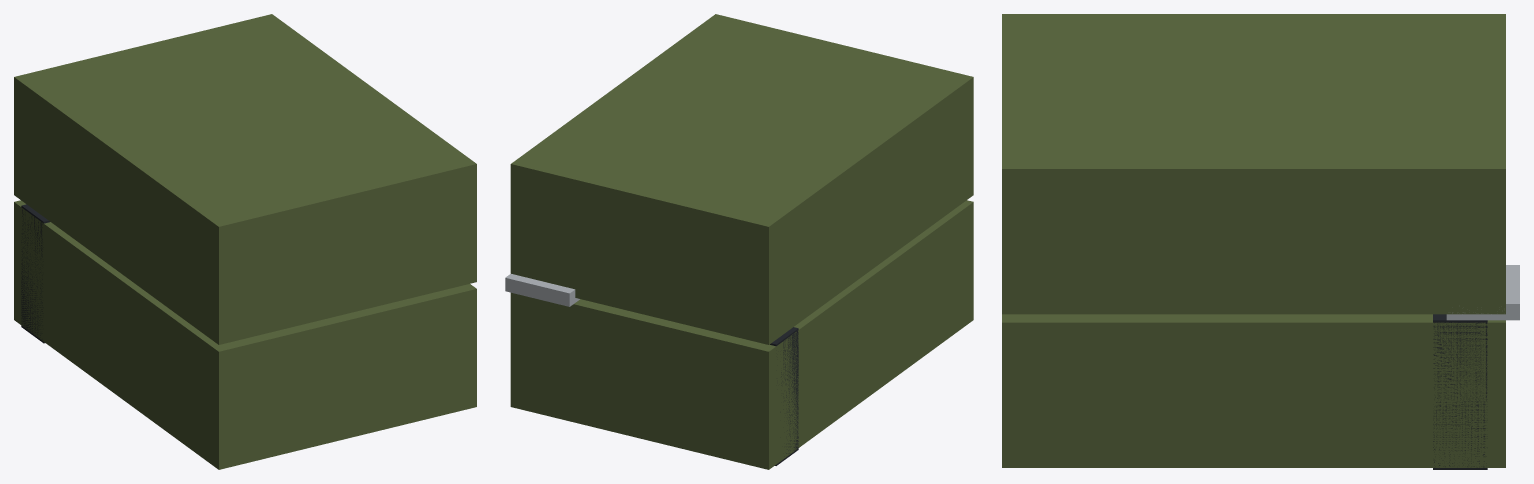
Rendered from field-rations.lod.glb.
3 views of the same model, side by side, from view 1: azimuth 30°, elevation 25°; view 2: azimuth 150°, elevation 25°; view 3: azimuth 270°, elevation 25° (orthographic). The views are drawn at different scales.
Visible parts, largest first — view 1: m; view 2: m; view 3: m.
Boxes of the visible parts, bbox=[...] form: m: bbox=[14, 14, 476, 469]; m: bbox=[505, 14, 973, 469]; m: bbox=[1002, 14, 1519, 469].
Bounding box in the file's own units: 0.0779 × 0.0706 × 0.11.
